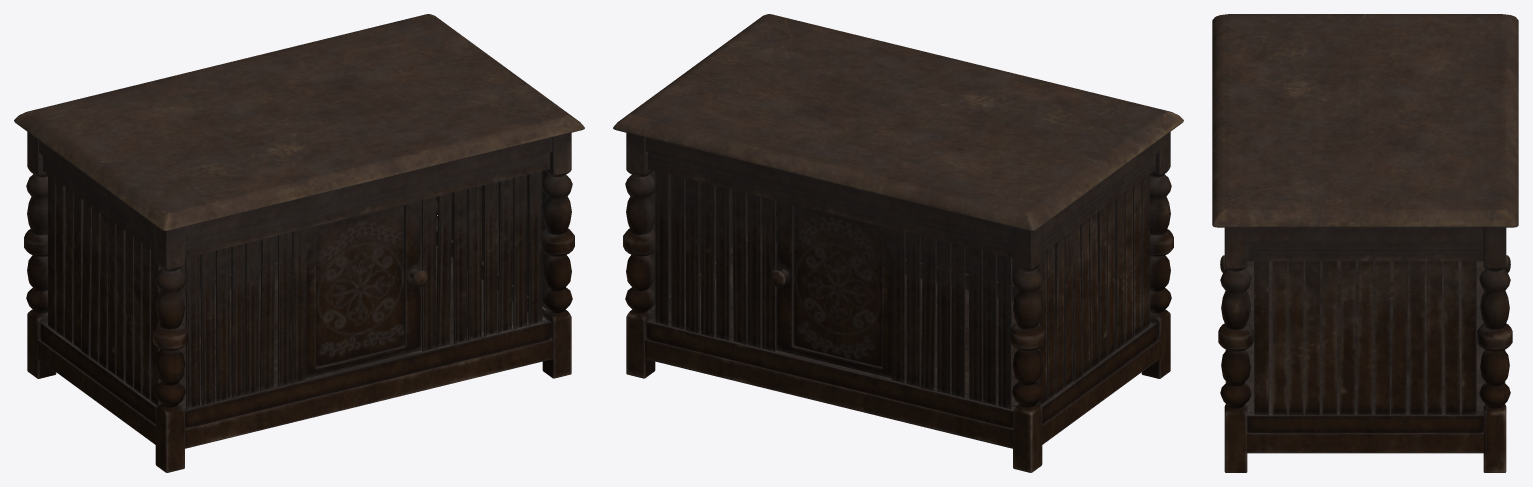
The model's file is gallinera_table_4k.gltf.
3 views of the same model, side by side, from view 1: azimuth 30°, elevation 25°; view 2: azimuth 150°, elevation 25°; view 3: azimuth 270°, elevation 25° (orthographic).
Visible parts, largest first — view 1: gallinera_table, gallinera_table_door_a; view 2: gallinera_table, gallinera_table_door_b; view 3: gallinera_table.
Boxes of the visible parts, x1,y1,x2,y2 form: gallinera_table: (14,14,584,472); gallinera_table_door_a: (306,200,428,378); gallinera_table: (613,14,1183,472); gallinera_table_door_b: (769,200,891,378); gallinera_table: (1212,14,1518,472).
Bounding box in the file's own units: 0.8301 × 0.4878 × 0.5183.
Materials: 1 (1 with a texture image).
